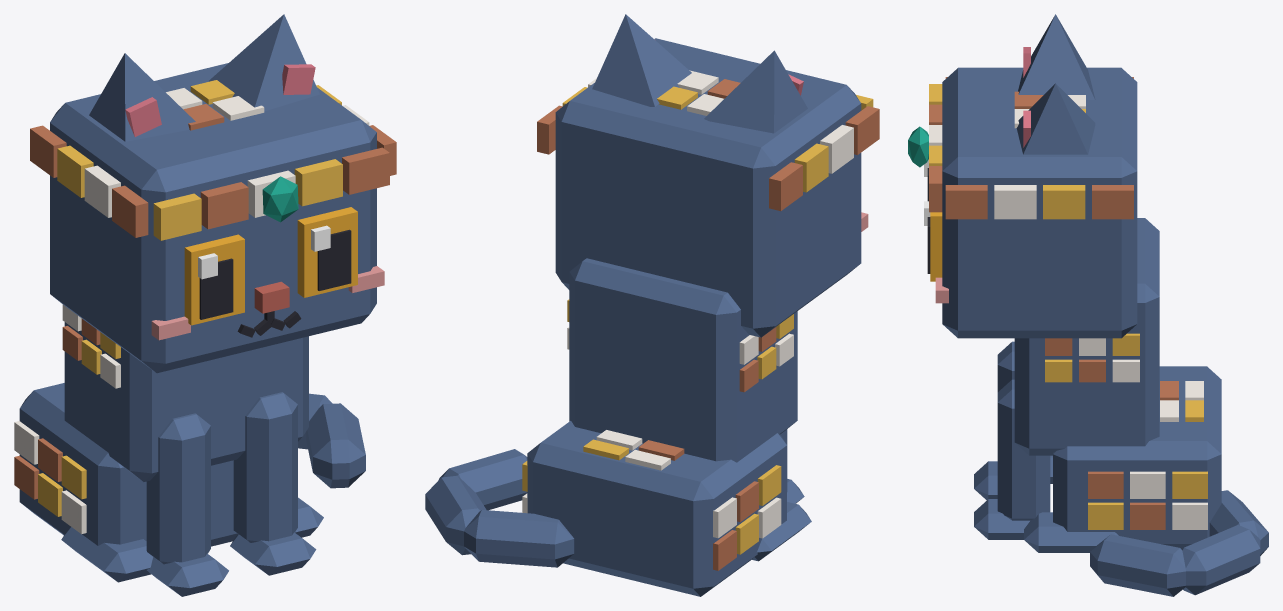
The model's file is CatCafe_Cat_Mosaic_Sit.fbx.
The picture shows the model from 3 angles, left to right: view 1: azimuth 30°, elevation 25°; view 2: azimuth 150°, elevation 25°; view 3: azimuth 270°, elevation 25°; orthographic projection. The views are drawn at different scales.
Visible parts, largest first — view 1: CatCafe_Cat_Mosaic_Sit_Head, CatCafe_Cat_Mosaic_Sit_Body, CatCafe_Cat_Mosaic_Sit_Prop, CatCafe_Cat_Mosaic_Sit_LegF1, CatCafe_Cat_Mosaic_Sit_LegF2, CatCafe_Cat_Mosaic_Sit_EarL, CatCafe_Cat_Mosaic_Sit_EarR, CatCafe_Cat_Mosaic_Sit_Eye1, CatCafe_Cat_Mosaic_Sit_Eye2, CatCafe_Cat_Mosaic_Sit_Tail, CatCafe_Cat_Mosaic_Sit_Glow; view 2: CatCafe_Cat_Mosaic_Sit_Body, CatCafe_Cat_Mosaic_Sit_Head, CatCafe_Cat_Mosaic_Sit_Tail, CatCafe_Cat_Mosaic_Sit_Prop, CatCafe_Cat_Mosaic_Sit_EarL, CatCafe_Cat_Mosaic_Sit_EarR; view 3: CatCafe_Cat_Mosaic_Sit_Head, CatCafe_Cat_Mosaic_Sit_Body, CatCafe_Cat_Mosaic_Sit_Tail, CatCafe_Cat_Mosaic_Sit_Prop, CatCafe_Cat_Mosaic_Sit_LegF1, CatCafe_Cat_Mosaic_Sit_EarL, CatCafe_Cat_Mosaic_Sit_EarR, CatCafe_Cat_Mosaic_Sit_LegF2, CatCafe_Cat_Mosaic_Sit_Eye1, CatCafe_Cat_Mosaic_Sit_Glow.
Part boxes in pixels (x1,y1,x2,y2): CatCafe_Cat_Mosaic_Sit_Head: (50, 63, 384, 373); CatCafe_Cat_Mosaic_Sit_Body: (14, 304, 323, 582); CatCafe_Cat_Mosaic_Sit_Prop: (30, 85, 396, 240); CatCafe_Cat_Mosaic_Sit_LegF1: (230, 392, 316, 575); CatCafe_Cat_Mosaic_Sit_LegF2: (146, 413, 228, 596); CatCafe_Cat_Mosaic_Sit_EarL: (209, 14, 319, 111); CatCafe_Cat_Mosaic_Sit_EarR: (89, 53, 195, 141); CatCafe_Cat_Mosaic_Sit_Eye1: (297, 207, 357, 297); CatCafe_Cat_Mosaic_Sit_Eye2: (184, 234, 244, 325); CatCafe_Cat_Mosaic_Sit_Tail: (298, 393, 365, 488); CatCafe_Cat_Mosaic_Sit_Glow: (262, 176, 298, 222); CatCafe_Cat_Mosaic_Sit_Body: (522, 258, 811, 596); CatCafe_Cat_Mosaic_Sit_Head: (555, 38, 868, 337); CatCafe_Cat_Mosaic_Sit_Tail: (425, 449, 574, 567); CatCafe_Cat_Mosaic_Sit_Prop: (537, 78, 879, 211); CatCafe_Cat_Mosaic_Sit_EarL: (592, 14, 691, 106); CatCafe_Cat_Mosaic_Sit_EarR: (704, 50, 807, 133); CatCafe_Cat_Mosaic_Sit_Head: (935, 67, 1137, 338); CatCafe_Cat_Mosaic_Sit_Body: (1014, 218, 1221, 552); CatCafe_Cat_Mosaic_Sit_Tail: (1090, 490, 1268, 596); CatCafe_Cat_Mosaic_Sit_Prop: (929, 77, 1133, 219); CatCafe_Cat_Mosaic_Sit_LegF1: (974, 379, 1050, 539); CatCafe_Cat_Mosaic_Sit_EarL: (1016, 83, 1095, 154); CatCafe_Cat_Mosaic_Sit_EarR: (1018, 14, 1095, 99); CatCafe_Cat_Mosaic_Sit_LegF2: (974, 341, 1014, 500); CatCafe_Cat_Mosaic_Sit_Eye1: (924, 201, 942, 281); CatCafe_Cat_Mosaic_Sit_Glow: (908, 126, 928, 167).
Size of the model in its own units: 1.29 by 1.85 by 1.3.
1 material, 1 textured.
